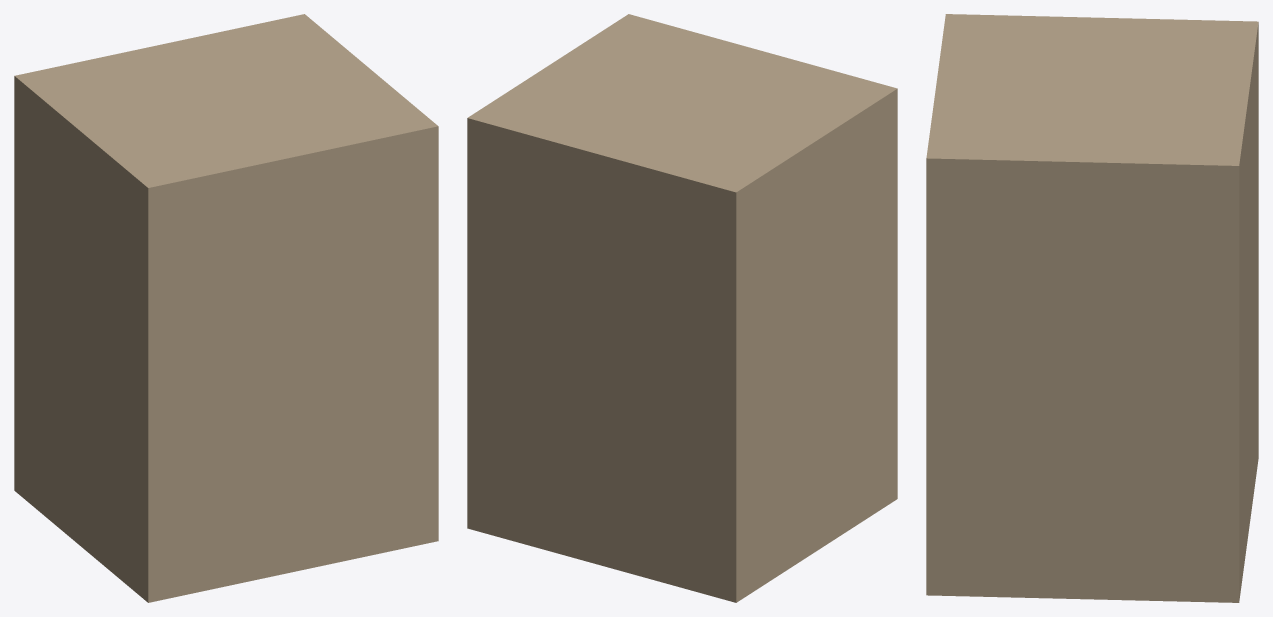
File: bld_99616026.dae
3 renders of one model, left to right at view 1: azimuth 30°, elevation 25°; view 2: azimuth 150°, elevation 25°; view 3: azimuth 270°, elevation 25°, orthographic. The views are drawn at different scales.
Visible parts, largest first — view 1: bld_99616026; view 2: bld_99616026; view 3: bld_99616026.
Boxes of the visible parts, <box> form: bld_99616026: <box>14,14,438,602</box>; bld_99616026: <box>467,14,897,602</box>; bld_99616026: <box>926,14,1258,602</box>.
Size of the model in its own units: 5.97 by 5.51 by 8.
